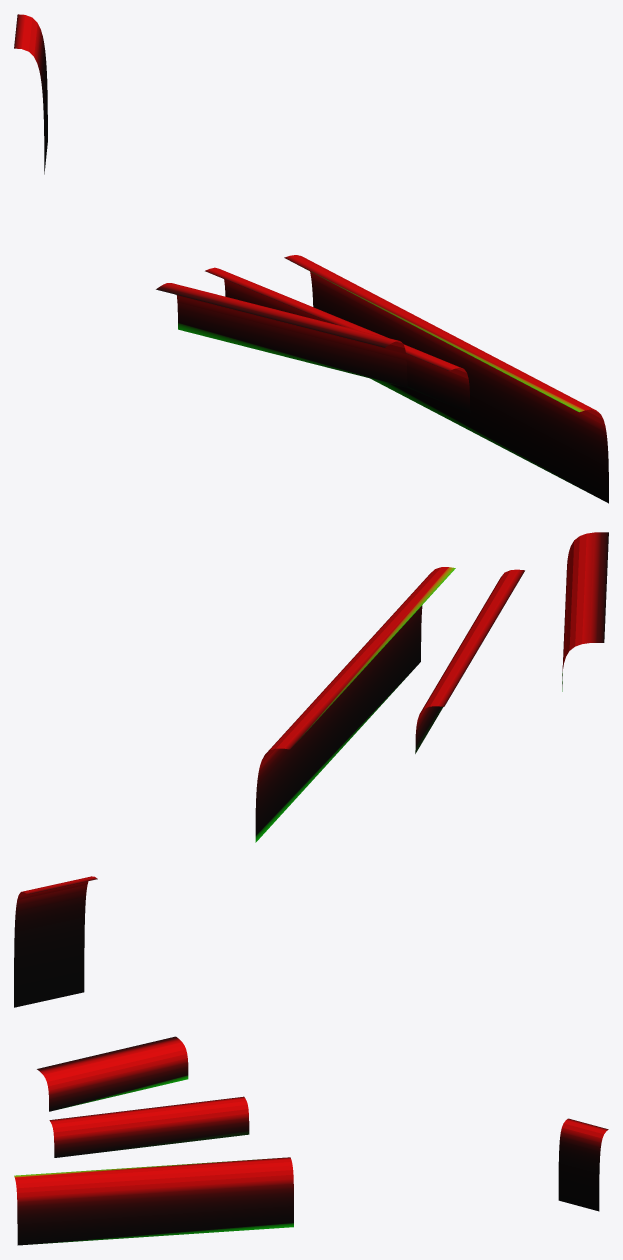
Rendered from Waterfalls_1.fbx.
3 views of the same model, one above another, from view 1: azimuth 30°, elevation 25°; view 2: azimuth 150°, elevation 25°; view 3: azimuth 270°, elevation 25° (orthographic). The views are drawn at different scales.
Visible parts, largest first — view 1: quickmaterial1; view 2: quickmaterial1; view 3: quickmaterial1.
Boxes of the visible parts, box(x1,y1,x2,y2) form: quickmaterial1: box(14, 14, 608, 503); quickmaterial1: box(14, 532, 608, 1007); quickmaterial1: box(14, 1036, 608, 1245).
Size of the model in its own units: 22809 by 13257 by 61631.
